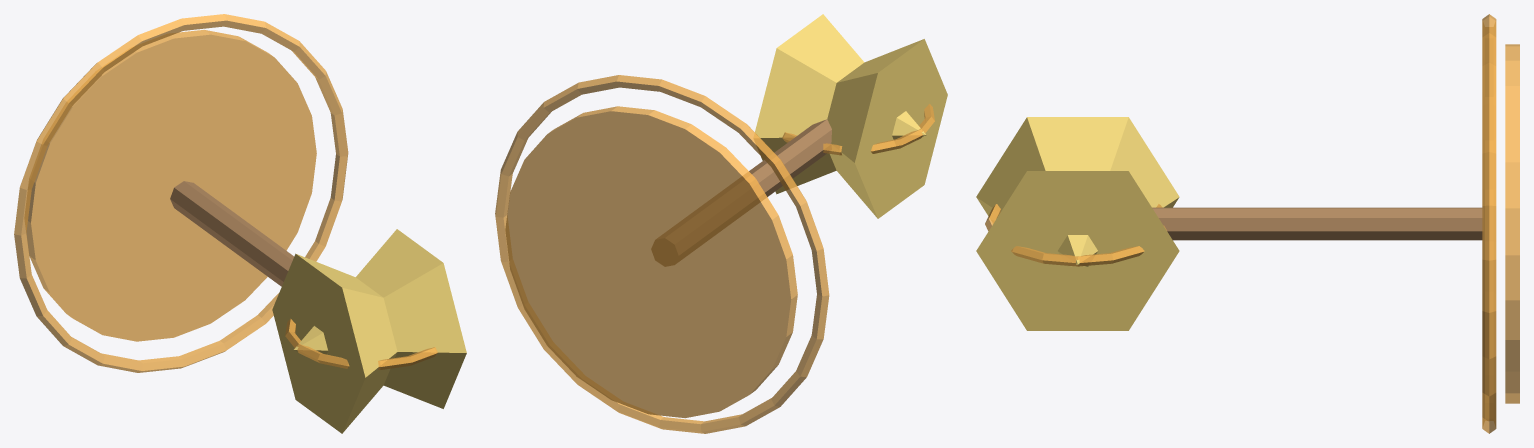
The model's file is weapon_pickup_executioner_axe_legendary.glb.
The picture shows the model from 3 angles, left to right: view 1: azimuth 30°, elevation 25°; view 2: azimuth 150°, elevation 25°; view 3: azimuth 270°, elevation 25°; orthographic projection. The views are drawn at different scales.
Parts seen in each view (by area): view 1: rarity_base_disc, blade_left, rarity_orbit_ring, blade_right, haft, rune_ring; view 2: rarity_base_disc, blade_left, rarity_orbit_ring, blade_right, haft, rune_ring; view 3: blade_right, blade_left, haft, rarity_orbit_ring, rarity_base_disc, rune_ring.
Part boxes in pixels (x1,y1,x2,y2): rarity_base_disc: (26,29,316,341); blade_left: (272,253,397,433); rarity_orbit_ring: (14,14,348,372); blade_right: (294,229,466,408); haft: (170,181,294,286); rune_ring: (285,318,437,369); rarity_base_disc: (505,106,797,418); blade_left: (827,39,947,218); rarity_orbit_ring: (495,75,829,433); blade_right: (754,14,926,194); haft: (652,119,831,266); rune_ring: (782,104,934,155); blade_right: (976,171,1179,330); blade_left: (976,117,1179,266); haft: (1152,207,1482,240); rarity_orbit_ring: (1482,14,1496,433); rarity_base_disc: (1505,44,1519,403); rune_ring: (985,204,1166,266).
Size of the model in its own units: 1.45 by 1.45 by 1.87.
